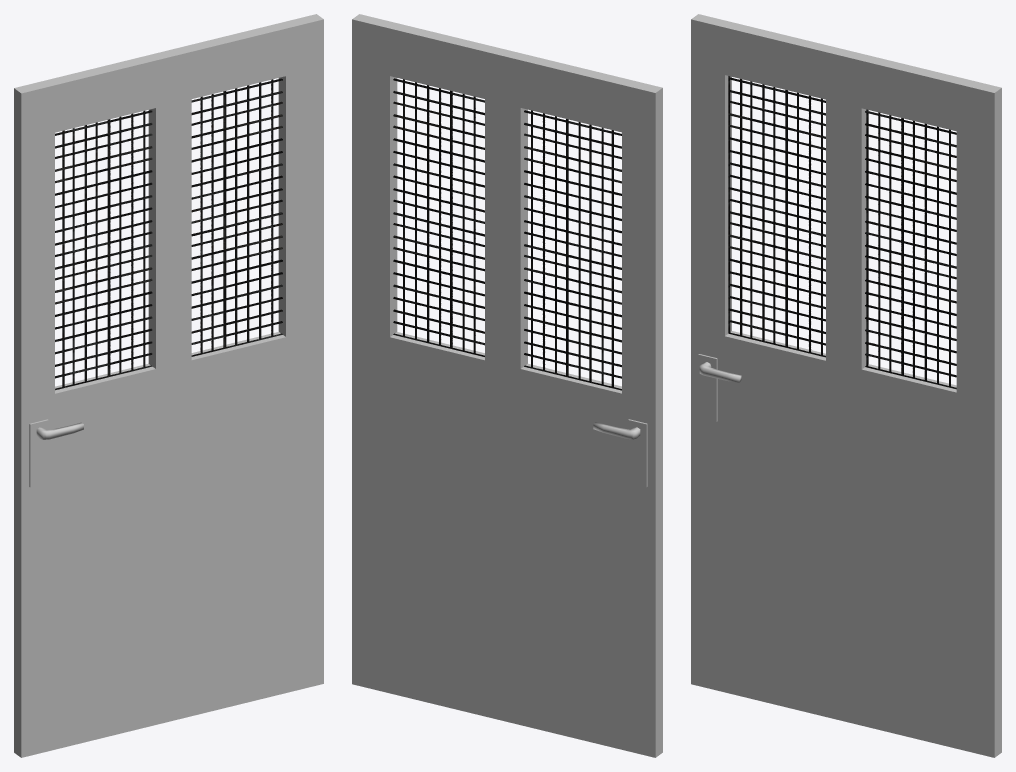
Rendered from Door_D.fbx.
3 views of the same model, side by side, from view 1: azimuth 30°, elevation 25°; view 2: azimuth 150°, elevation 25°; view 3: azimuth 330°, elevation 25° (orthographic).
Visible parts, largest first — view 1: Door_D; view 2: Door_D; view 3: Door_D.
Part boxes in pixels (x1,y1,x2,y2): Door_D: (14, 14, 323, 757); Door_D: (352, 14, 662, 757); Door_D: (691, 14, 1001, 757).
Size of the model in its own units: 102 by 214 by 13.35.
